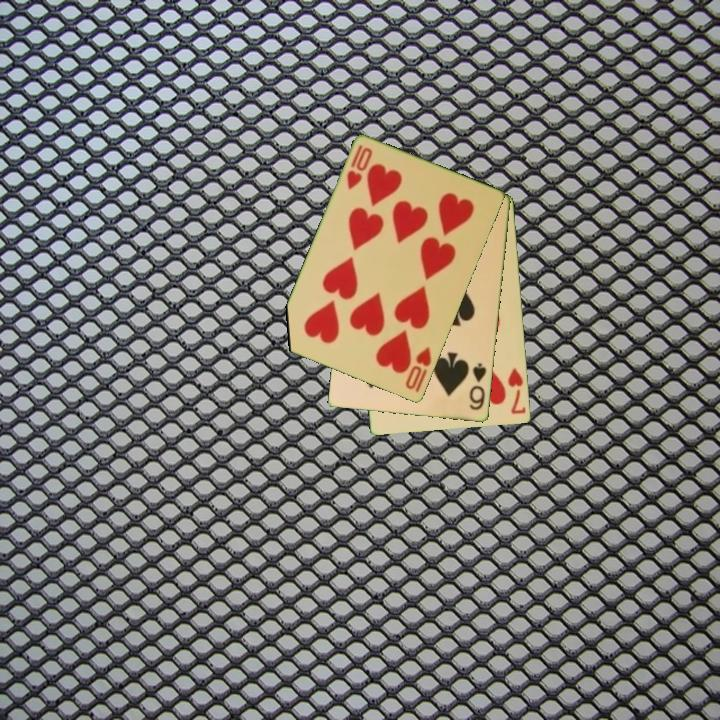10h: (402, 344, 435, 396), (343, 142, 375, 193)
6s: (466, 360, 489, 413)
7h: (505, 364, 529, 417)
